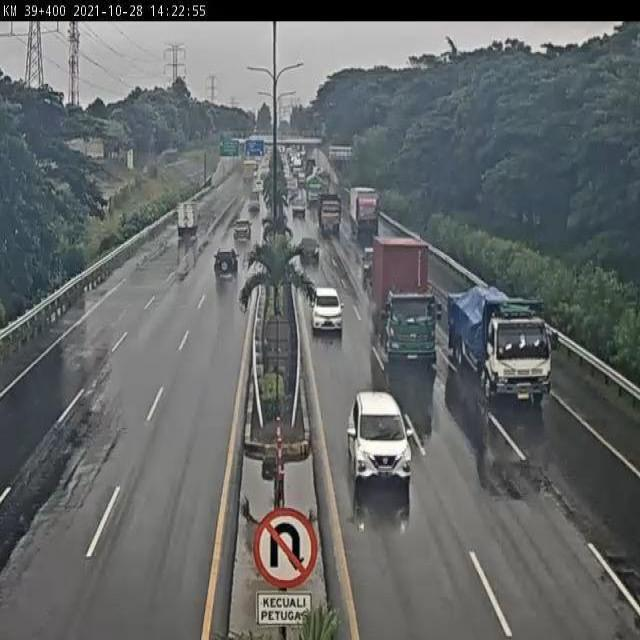truck: (447, 284, 559, 404), (373, 236, 442, 367), (349, 187, 381, 241), (318, 196, 344, 240), (177, 202, 197, 238)
